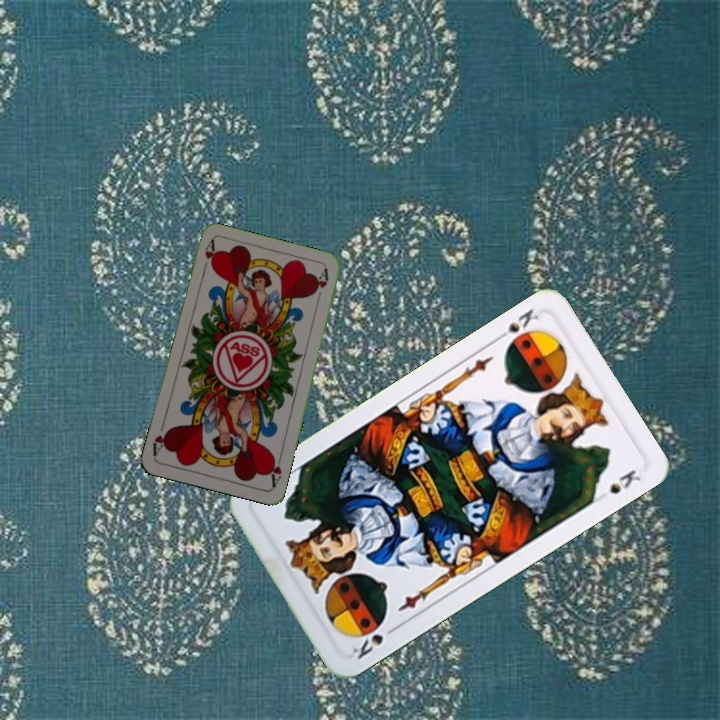HA: (265, 449, 285, 490), (198, 237, 218, 277)
SK: (491, 304, 542, 351), (348, 617, 401, 662)
